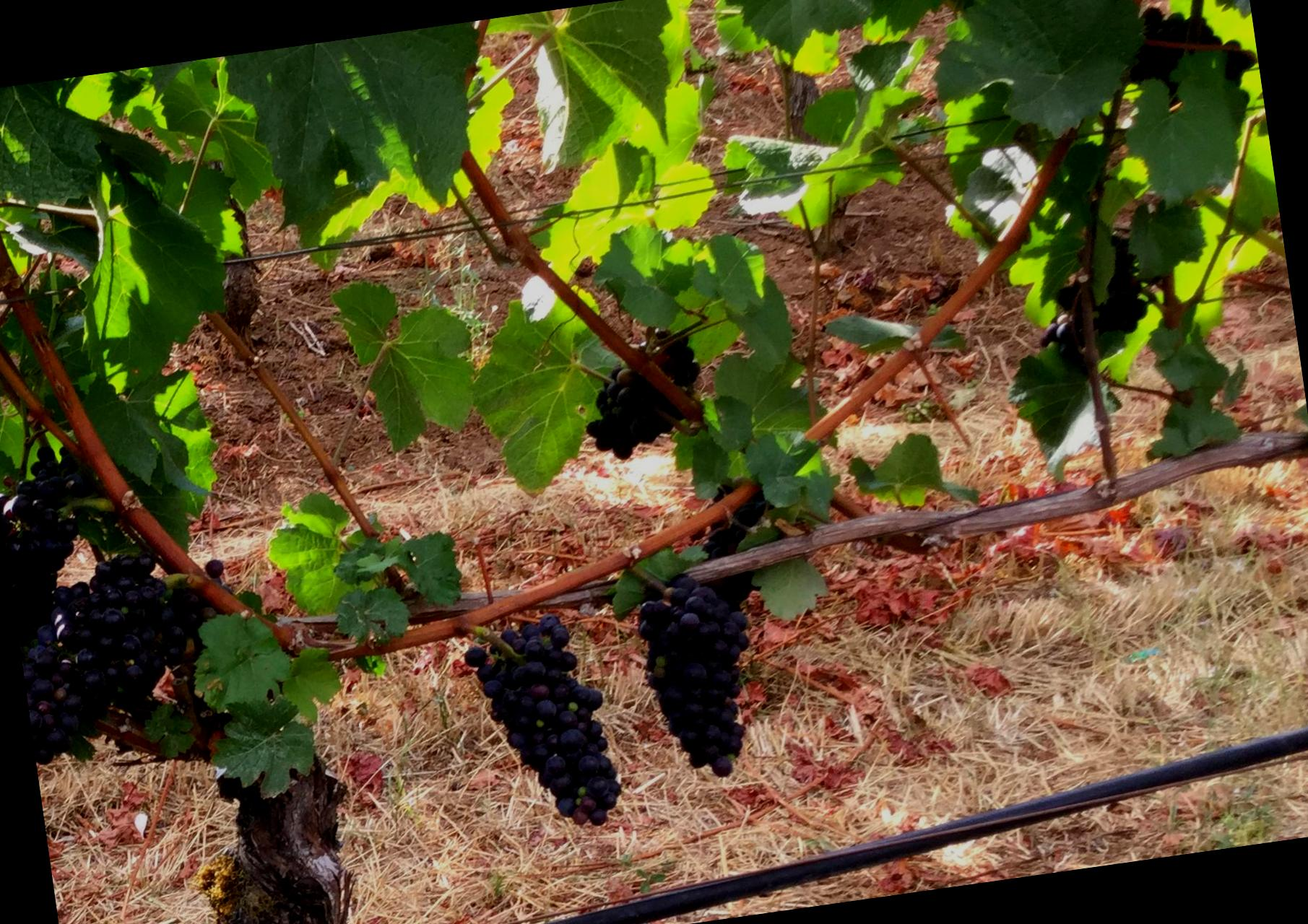Grape Ripe: (449, 598, 641, 848), (9, 545, 222, 760), (954, 230, 1163, 438), (623, 557, 785, 795), (0, 441, 127, 623), (565, 331, 709, 478)
